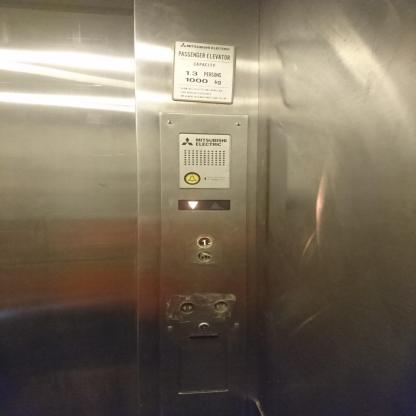1: (197, 236, 213, 249)
B1: (196, 251, 212, 262)
alarm: (183, 170, 202, 184)
close: (212, 300, 228, 314)
keyhole: (197, 322, 209, 331)
led: (176, 198, 232, 212)
open: (180, 301, 196, 314)
